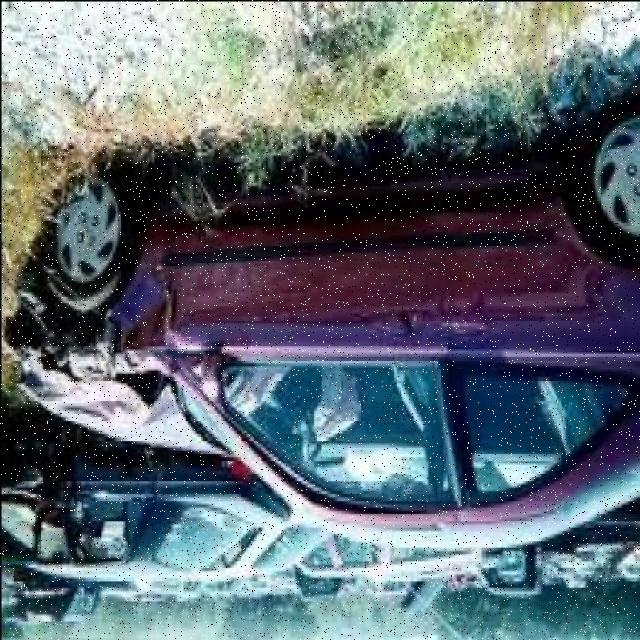damage: (0, 235, 220, 460)
